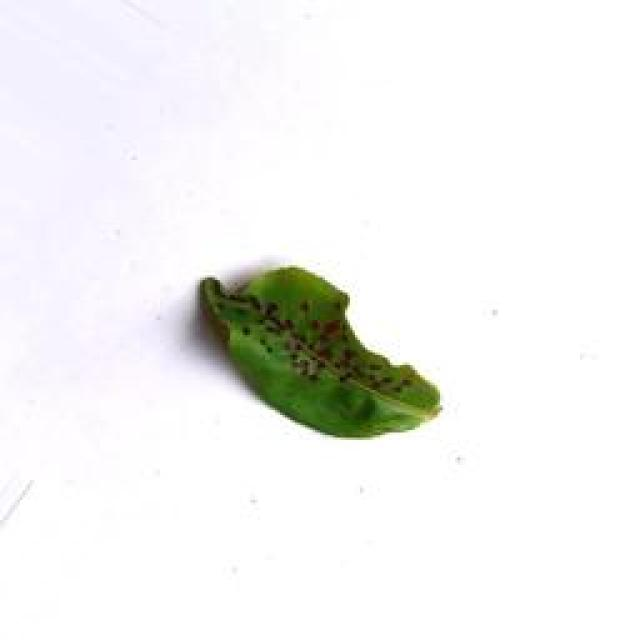Helopeltis: (174, 247, 465, 447)
